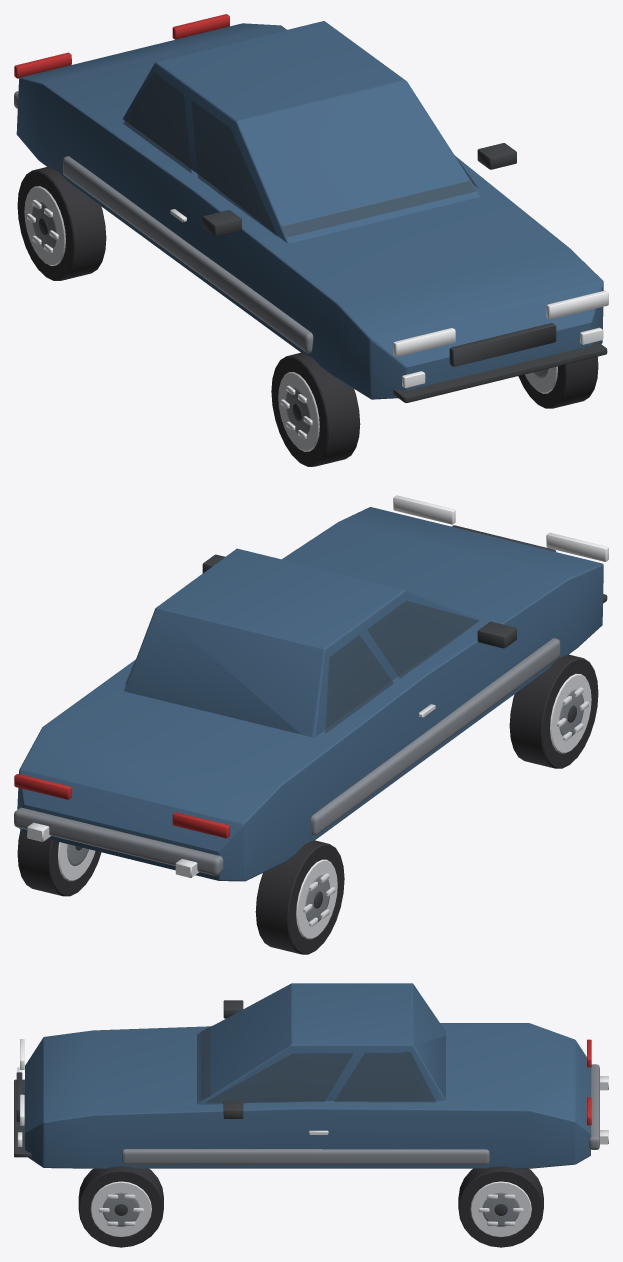
The model's file is aureline.glb.
3 views of the same model, one above another, from view 1: azimuth 30°, elevation 25°; view 2: azimuth 150°, elevation 25°; view 3: azimuth 270°, elevation 25° (orthographic). The views are drawn at different scales.
Visible parts, largest first — view 1: paint, tyre, glass, accent, trim, rim, head, tail; view 2: paint, tyre, accent, glass, rim, head, tail, trim; view 3: paint, glass, accent, tyre, rim, trim, head.
Part boxes in pixels (bbox=[...]): paint: bbox=[16, 21, 603, 399]; tyre: bbox=[17, 167, 598, 466]; glass: bbox=[123, 72, 477, 237]; accent: bbox=[14, 91, 548, 434]; trim: bbox=[39, 143, 607, 420]; rim: bbox=[24, 186, 557, 451]; head: bbox=[393, 290, 608, 388]; tail: bbox=[14, 14, 229, 78]; paint: bbox=[17, 507, 603, 881]; tyre: bbox=[17, 654, 598, 954]; accent: bbox=[14, 638, 583, 921]; glass: bbox=[125, 601, 479, 733]; rim: bbox=[27, 673, 591, 939]; head: bbox=[393, 495, 608, 561]; tail: bbox=[14, 774, 229, 838]; trim: bbox=[75, 525, 607, 908]; paint: bbox=[25, 983, 590, 1168]; glass: bbox=[201, 1025, 435, 1102]; accent: bbox=[102, 1064, 599, 1226]; tyre: bbox=[78, 1166, 543, 1247]; rim: bbox=[90, 1076, 608, 1237]; trim: bbox=[14, 1000, 507, 1215]; head: bbox=[17, 1039, 24, 1146].
Size of the model in its own units: 2.39 by 1.86 by 5.43.
